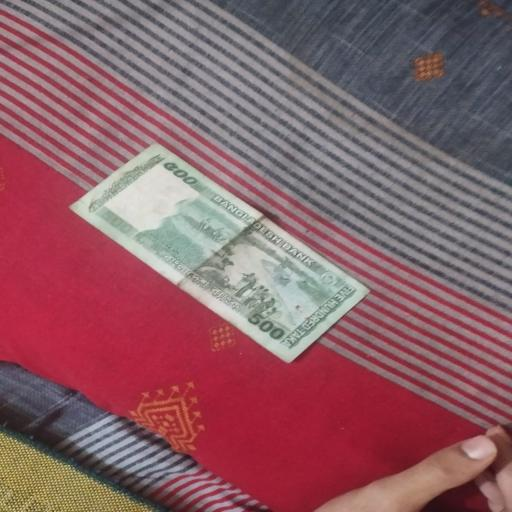500taka: (77, 140, 375, 366)
